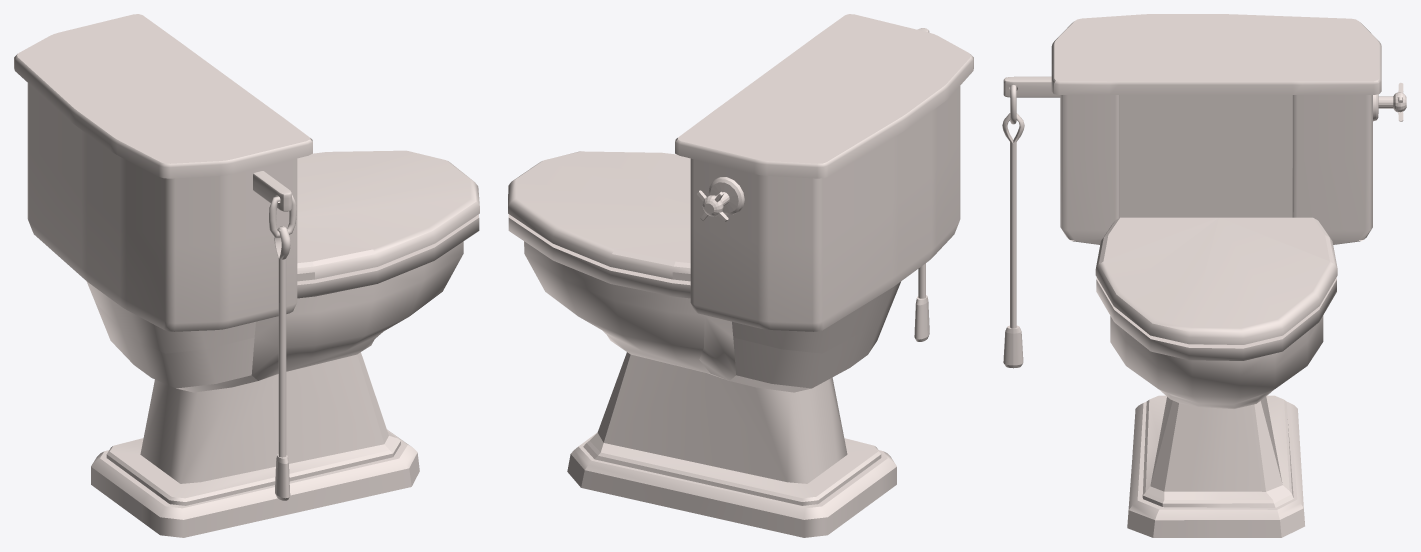
Rendered from wc_bas.fbx.
3 renders of one model, left to right at view 1: azimuth 30°, elevation 25°; view 2: azimuth 150°, elevation 25°; view 3: azimuth 270°, elevation 25°, orthographic. The views are drawn at different scales.
Visible parts, largest first — view 1: pCube4; view 2: pCube4; view 3: pCube4.
Part boxes in pixels (x1=…): pCube4: x1=14, y1=14, x2=479, y2=537; pCube4: x1=508, y1=14, x2=973, y2=537; pCube4: x1=1002, y1=14, x2=1406, y2=537.
Bounding box in the file's own units: 415 × 418 × 399.
1 material, 1 textured.
